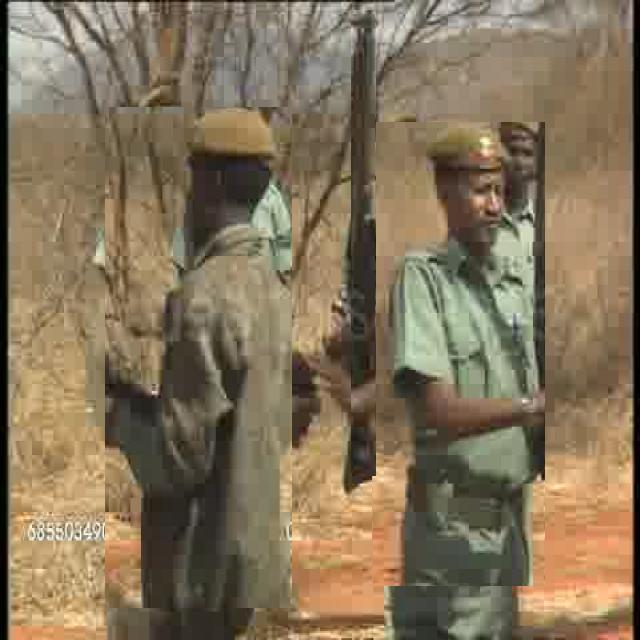poacher: (105, 107, 292, 608), (372, 123, 545, 586), (373, 118, 416, 188)
weapon: (351, 11, 376, 477)
